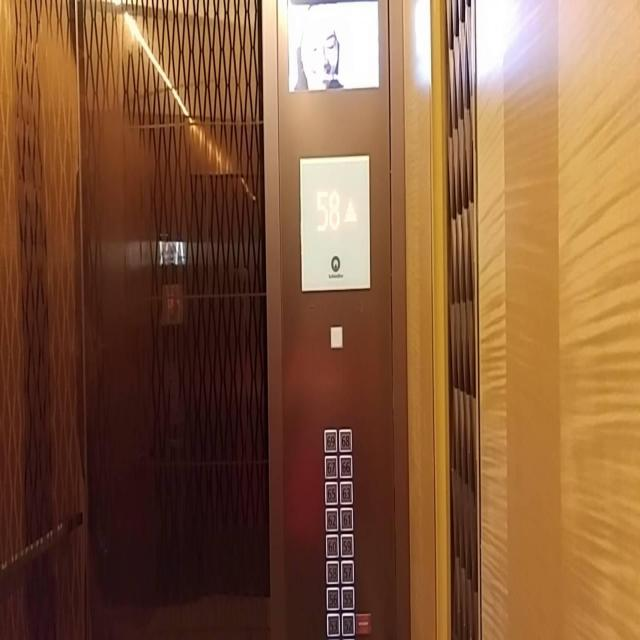52: (341, 612, 355, 637)
53: (326, 613, 341, 637)
55: (340, 585, 354, 610)
56: (326, 586, 340, 611)
57: (340, 559, 354, 584)
58: (326, 559, 340, 584)
59: (340, 533, 354, 557)
60: (325, 533, 339, 558)
61: (339, 507, 353, 531)
62: (324, 507, 338, 531)
63: (338, 480, 352, 505)
65: (324, 481, 338, 505)
66: (338, 454, 352, 479)
67: (323, 454, 338, 479)
68: (338, 428, 352, 453)
69: (323, 428, 338, 453)
empty: (328, 322, 344, 350)
led: (297, 153, 372, 293)
